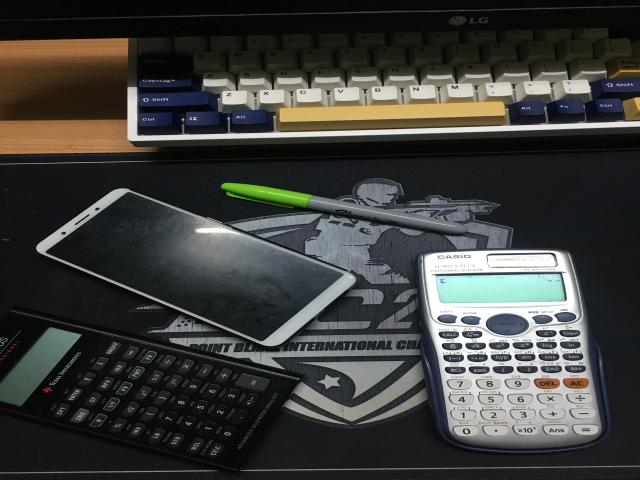Mobile phone: (37, 188, 357, 347)
Pen: (222, 183, 468, 234)
